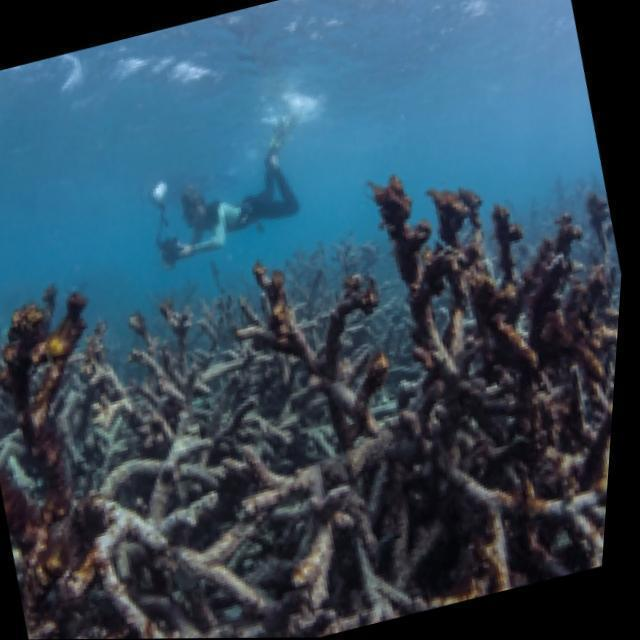Dead Coral: (45, 204, 467, 632), (326, 105, 634, 607), (0, 240, 209, 640)
